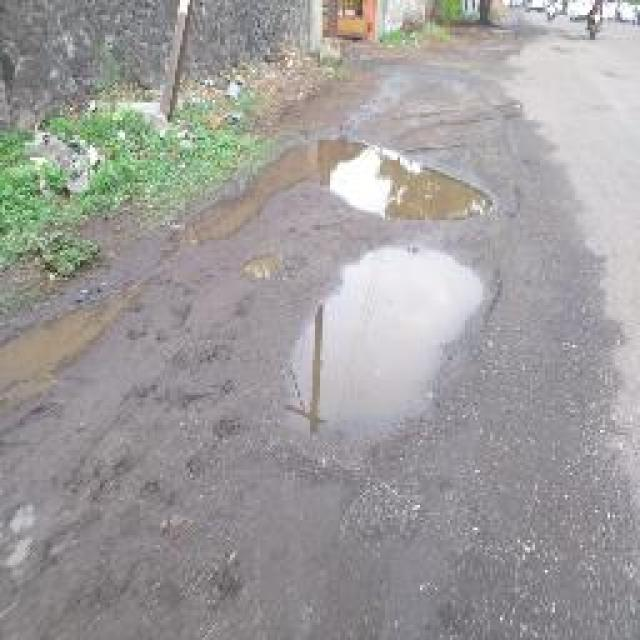stagnation: (242, 233, 500, 476), (0, 270, 158, 424), (286, 131, 498, 230)
